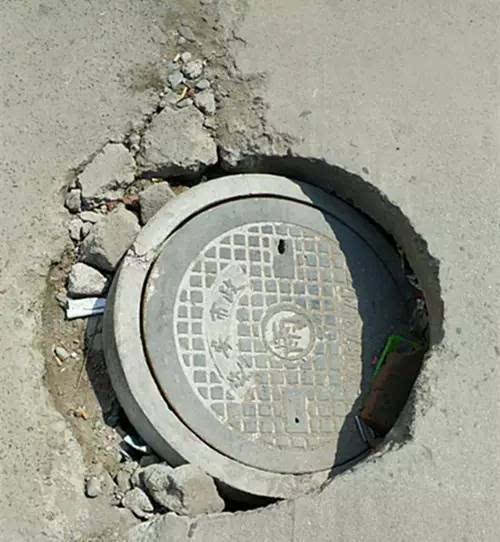circle: (48, 42, 443, 509)
